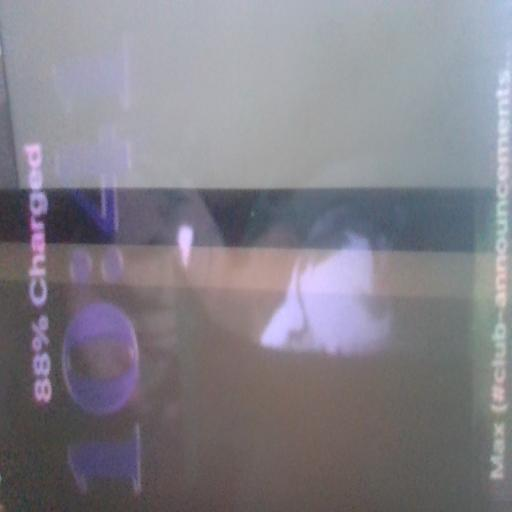phone: (1, 4, 512, 511)
